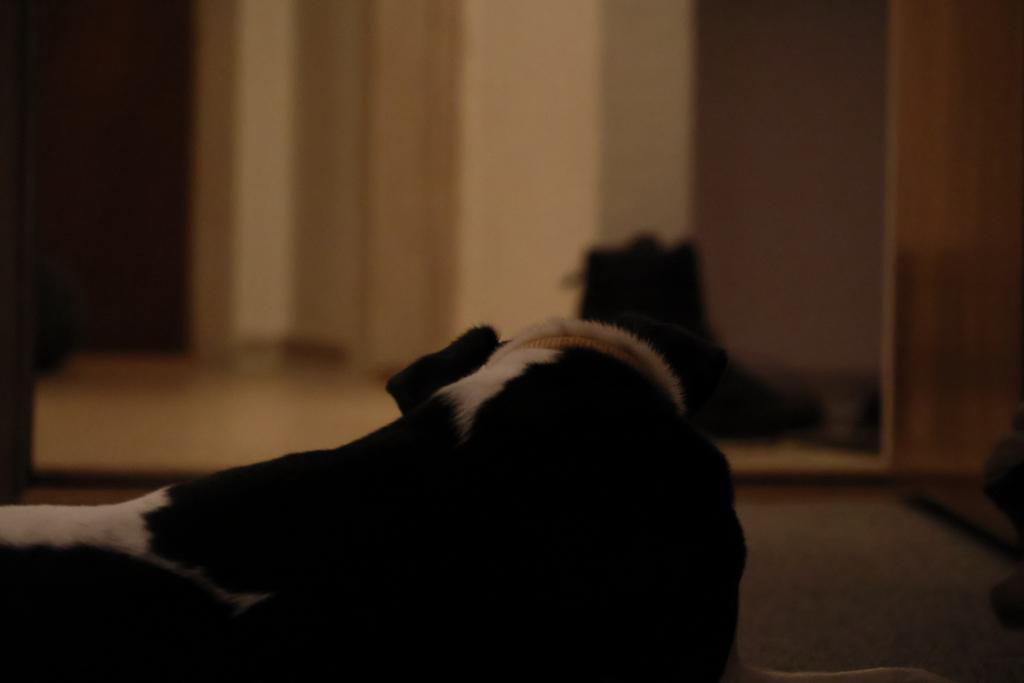Dog: (0, 305, 943, 683)
